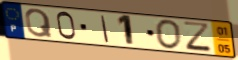0: (55, 10, 77, 41)
1: (116, 14, 136, 49)
I: (100, 14, 111, 44)
O: (154, 18, 184, 51)
Q: (23, 8, 54, 39)
Z: (181, 20, 214, 55)
